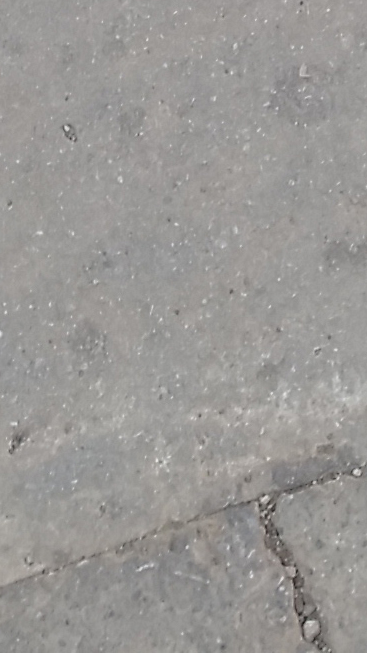A: (30, 433, 367, 635)
